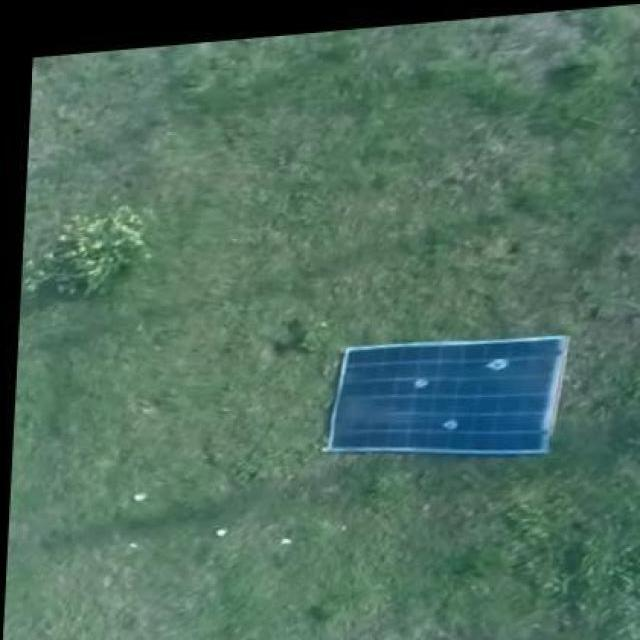soiled: (328, 340, 572, 456)
